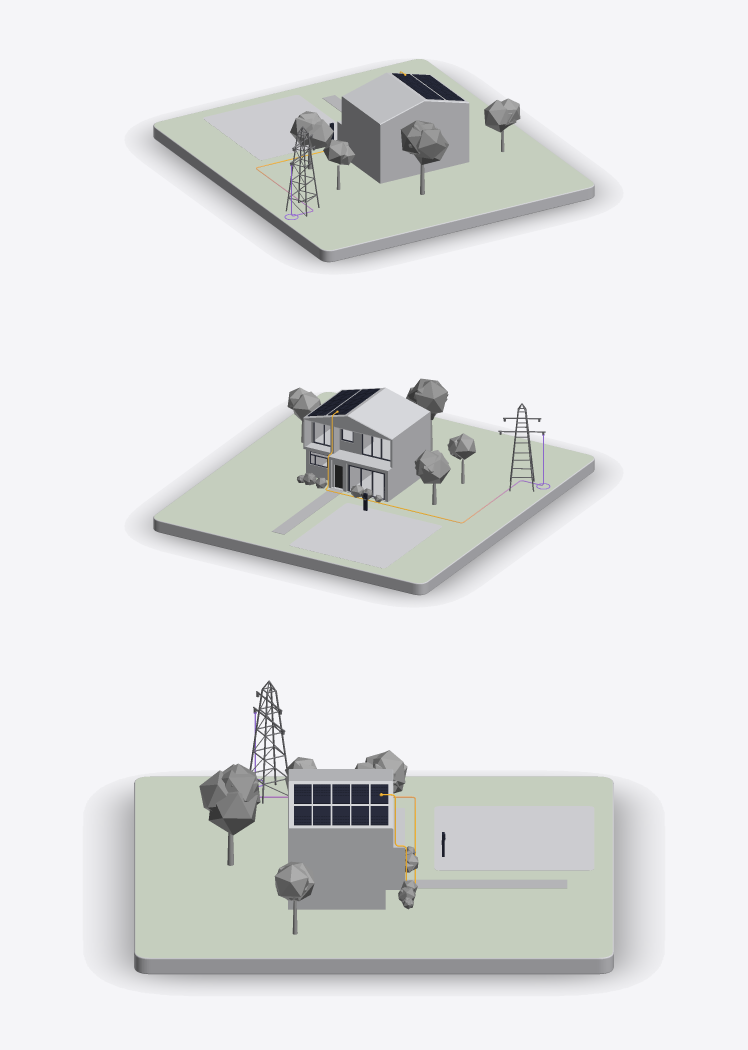
The model's file is sett-scroll-probleem-overdag.glb.
3 renders of one model, top to bottom at view 1: azimuth 30°, elevation 25°; view 2: azimuth 150°, elevation 25°; view 3: azimuth 270°, elevation 25°, orthographic. The views are drawn at different scales.
Parts seen in each view (by area): view 1: object 56, Muren_boven, contact_shadow, object 57, Muren_beneden, object 40, object 33, object 38, object 26; view 2: object 56, Muren_boven, object 57, contact_shadow, Muren_beneden, Pathway, object 38, object 24, object 102, object 33, Vloer; view 3: object 56, contact_shadow, object 57, Muren_boven, Muren_beneden, Pathway, object 39, object 34, object 41, object 40, object 27.
Part boxes in pixels (x1,y1,x2,y2): object 56: (153,59,594,262); Muren_boven: (341,72,469,152); contact_shadow: (148,80,599,264); object 57: (203,95,337,160); Muren_beneden: (337,120,469,183); object 40: (416,128,445,159); object 33: (484,100,513,132); object 38: (400,120,425,154); object 26: (307,119,333,149); object 56: (153,392,594,595); Muren_boven: (303,387,430,467); object 57: (290,503,441,568); contact_shadow: (148,413,599,597); Muren_beneden: (303,429,430,501); Pathway: (272,488,343,534); object 38: (413,380,447,413); object 24: (415,452,450,483); object 102: (325,411,543,523); object 33: (293,391,320,421); Vloer: (322,462,419,501); object 56: (134,776,613,974); contact_shadow: (113,793,634,983); object 57: (434,806,594,870); Muren_boven: (288,769,393,867); Muren_beneden: (288,808,404,909); Pathway: (405,879,567,888); object 39: (208,791,257,835); object 34: (274,864,308,898); object 41: (221,764,260,804); object 40: (199,770,228,811); object 27: (373,750,405,785).
Size of the model in its own units: 3693 by 734 by 3693.
Materials: 26 (1 with a texture image).
